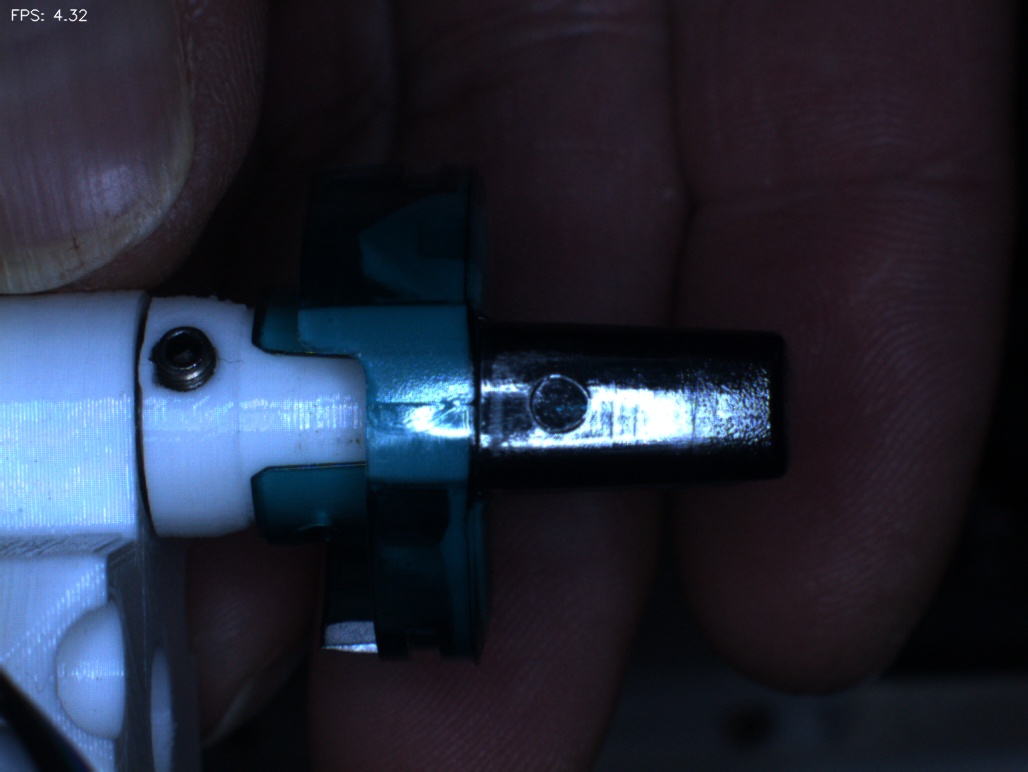DentOk: (328, 197, 406, 303)
